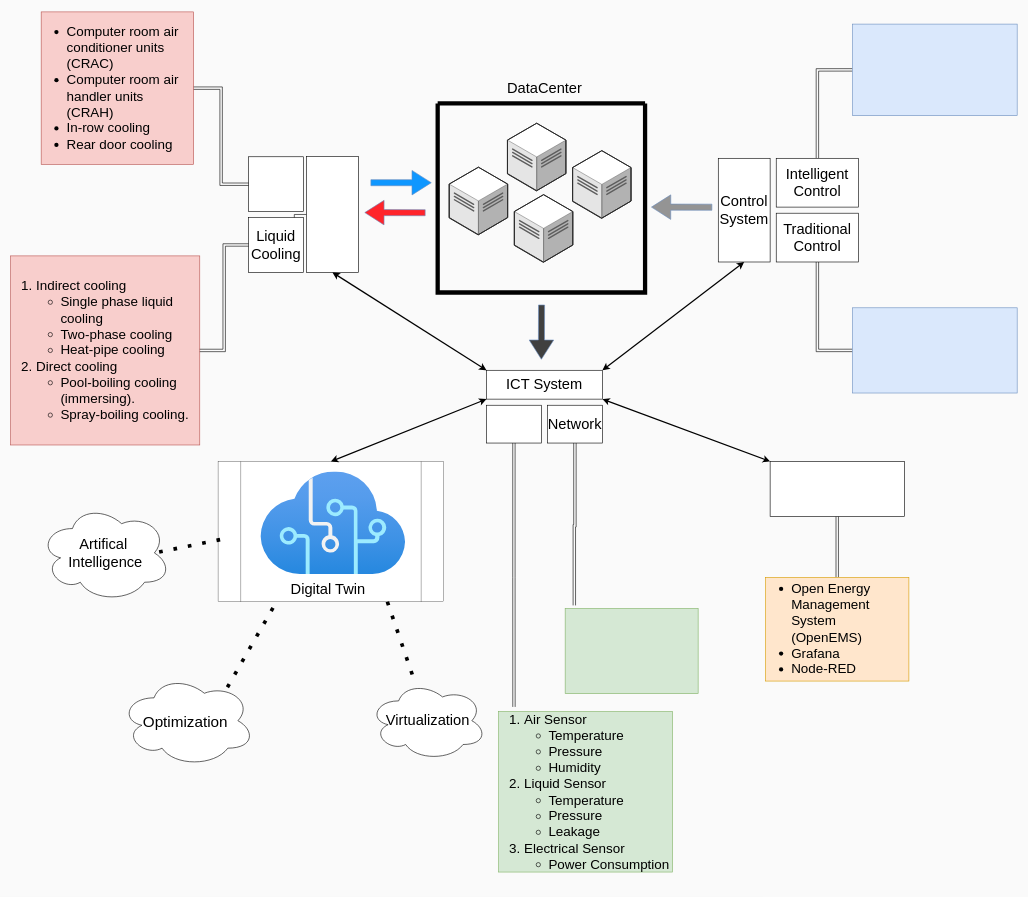
Image size: 1028x897. Some labels were removed from this diagram. Each missing label, with the centre of its shape:
Air Cooling: point (275, 184)
Cooling System: point (332, 214)
Fuzzy Logic Control Neural Network based control Model predictive control (MPC): point (934, 69)
Monitoring System: point (837, 488)
PID control PI ...?: point (934, 350)
Sensors: point (513, 424)
Wired Network Wireless Network: point (631, 651)
